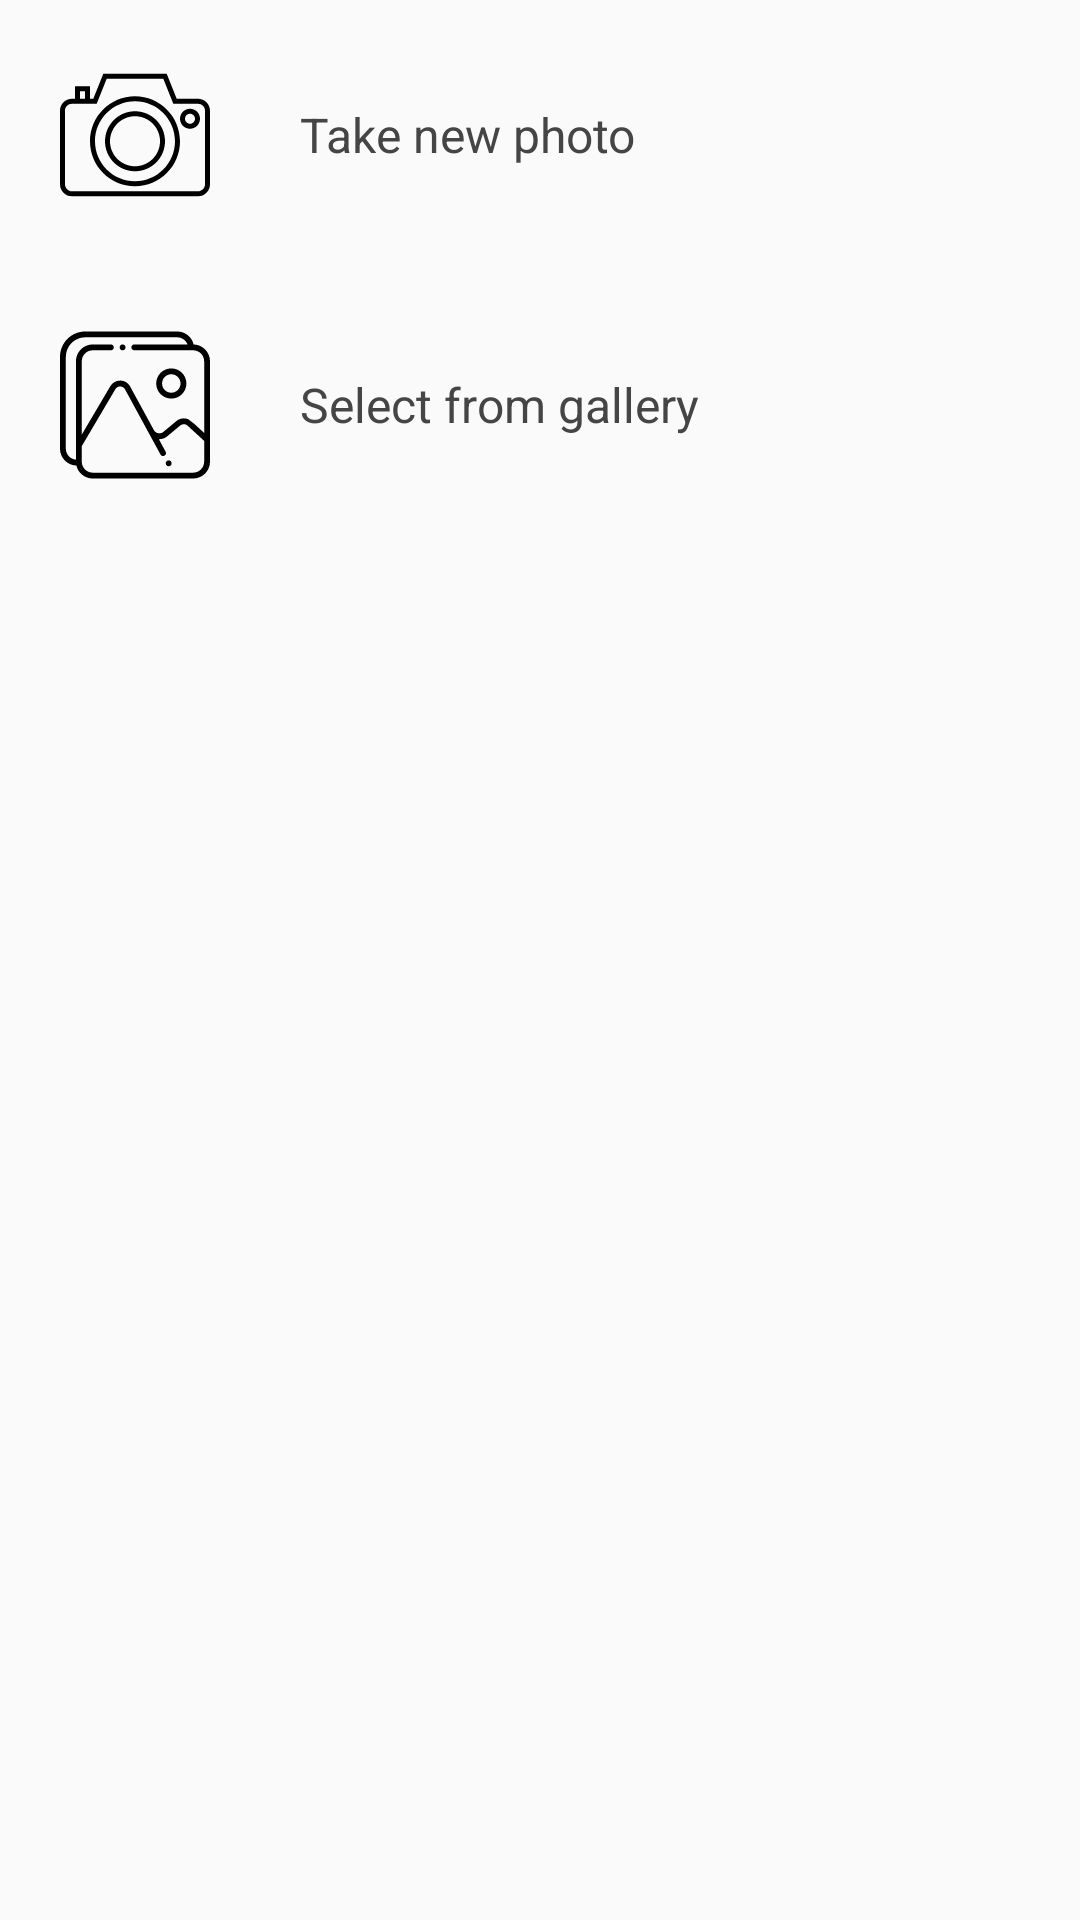

Locate icon controls on the screen. Image size 1080×1920, boxes as detection(x1, y1, x2, y2).
camera: detection(60, 73, 210, 197)
